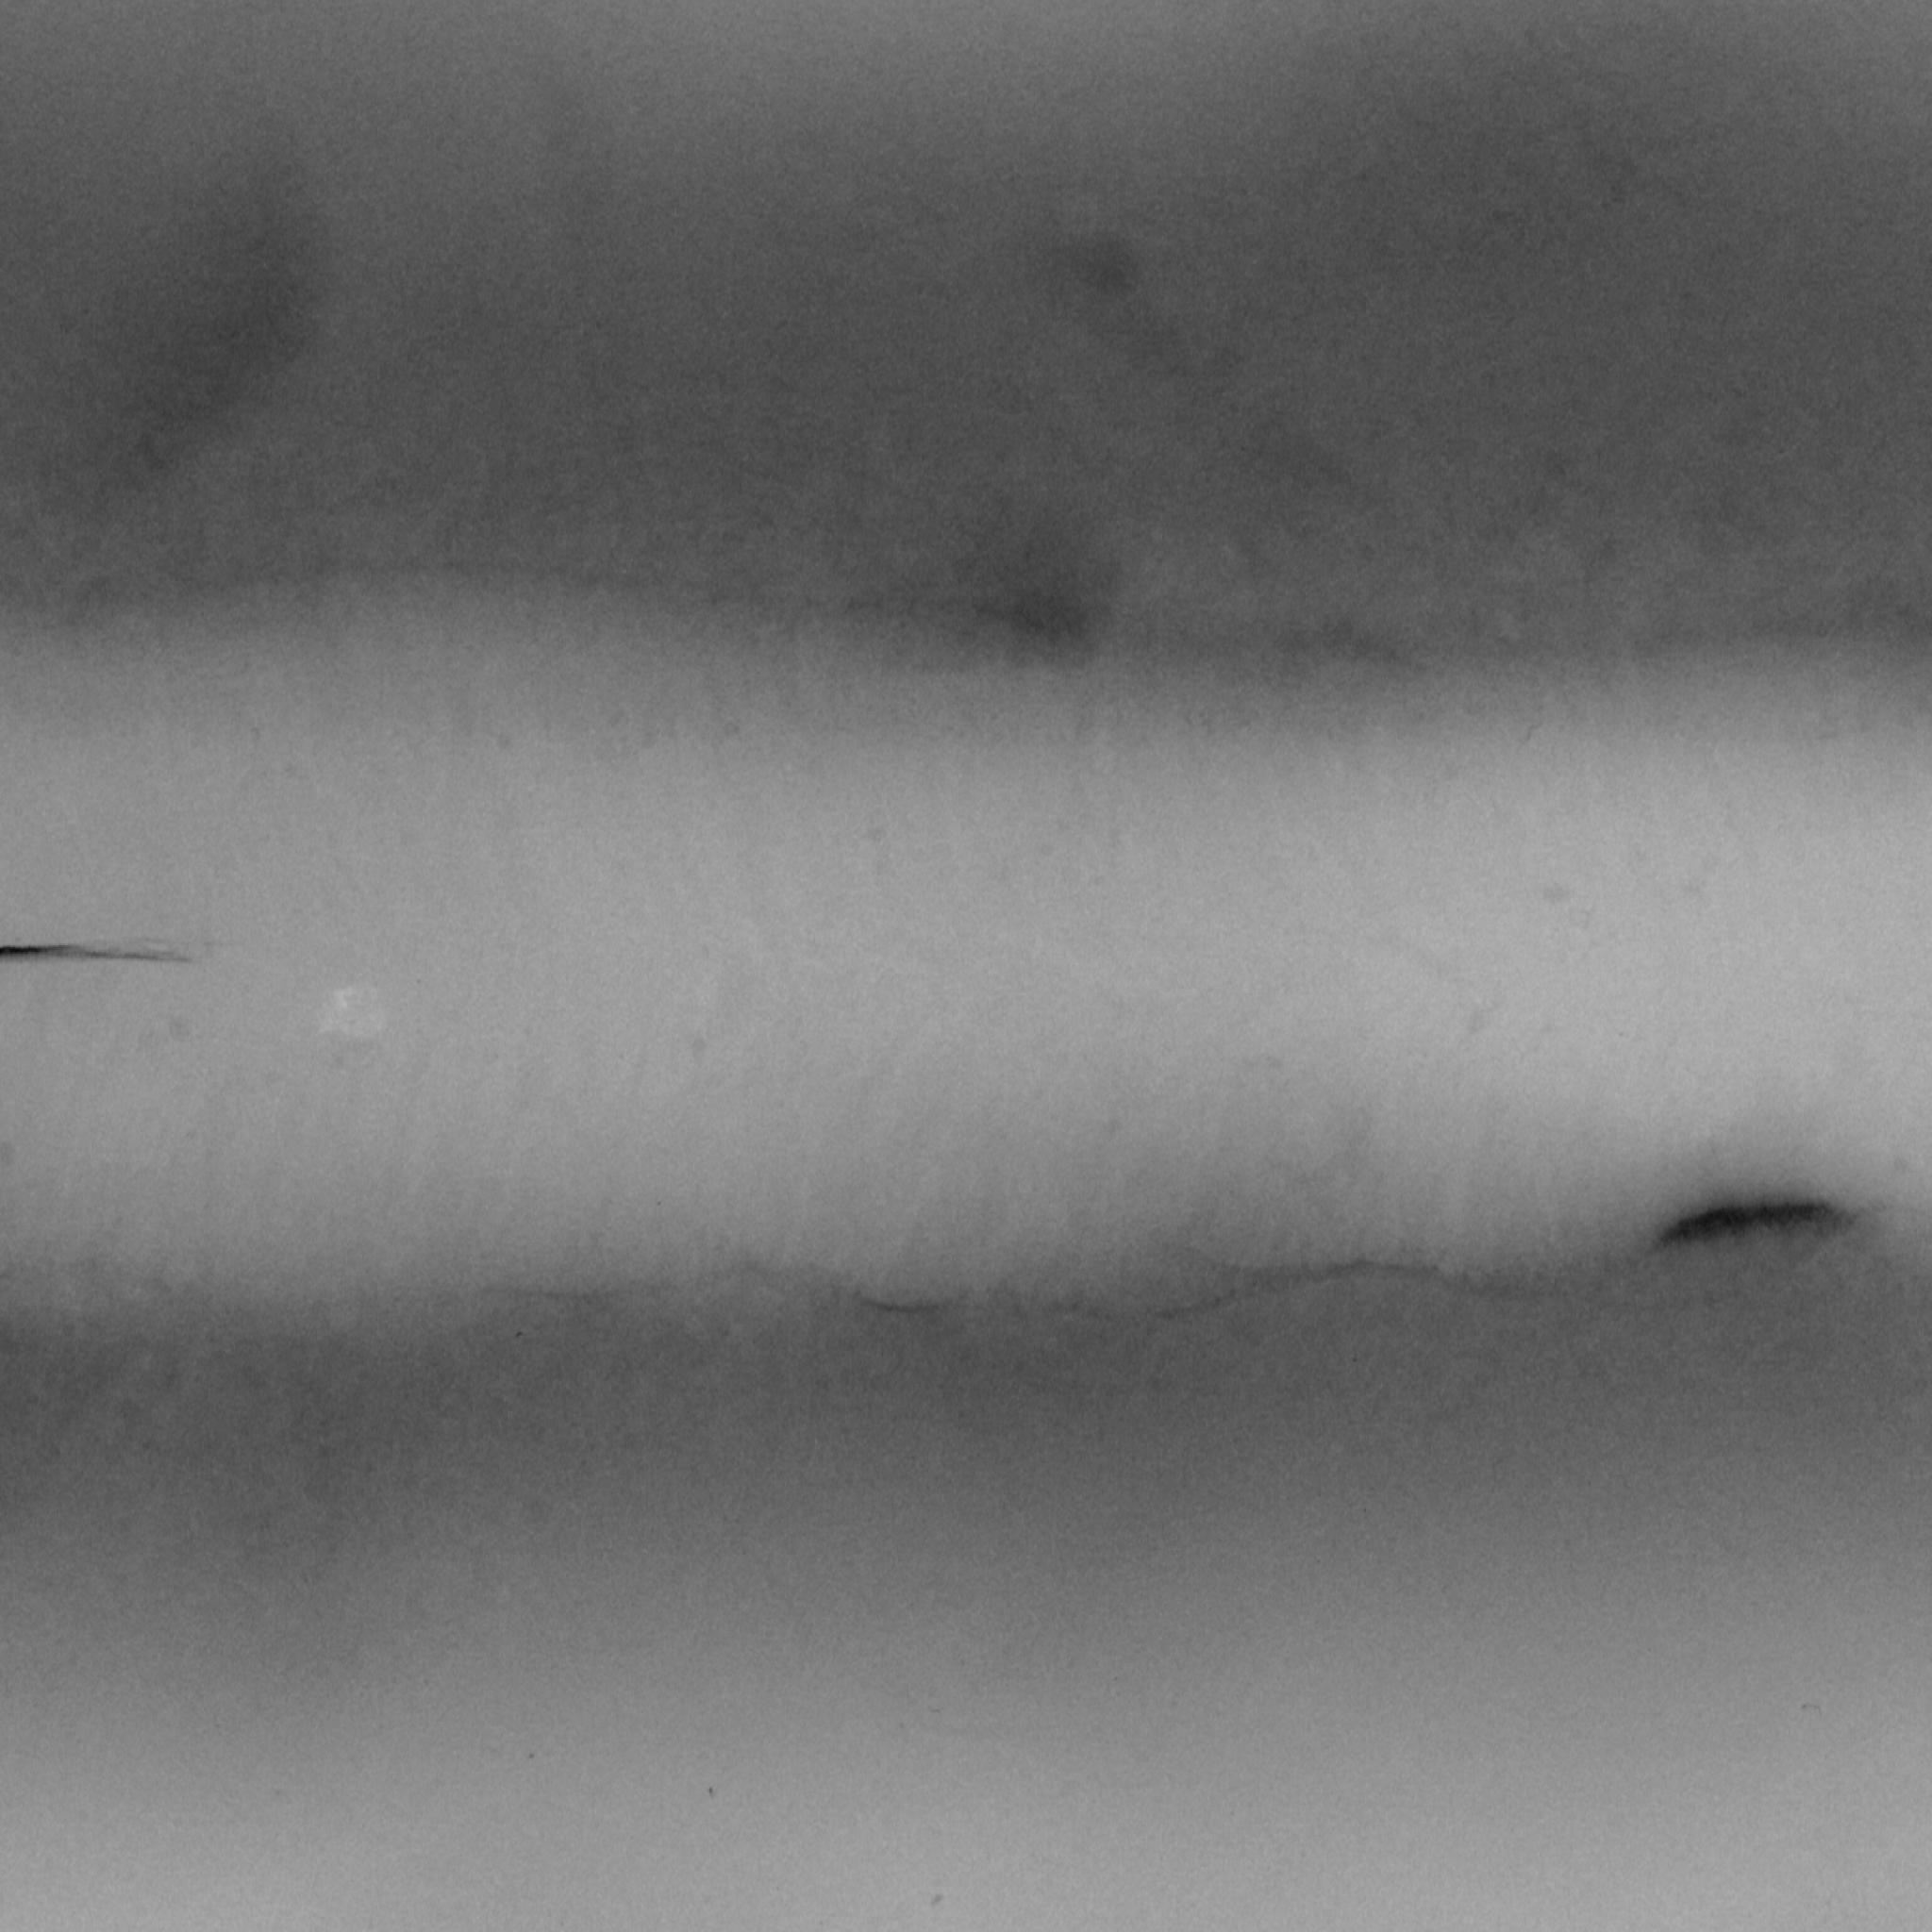FF: (0, 455, 1932, 1403)
